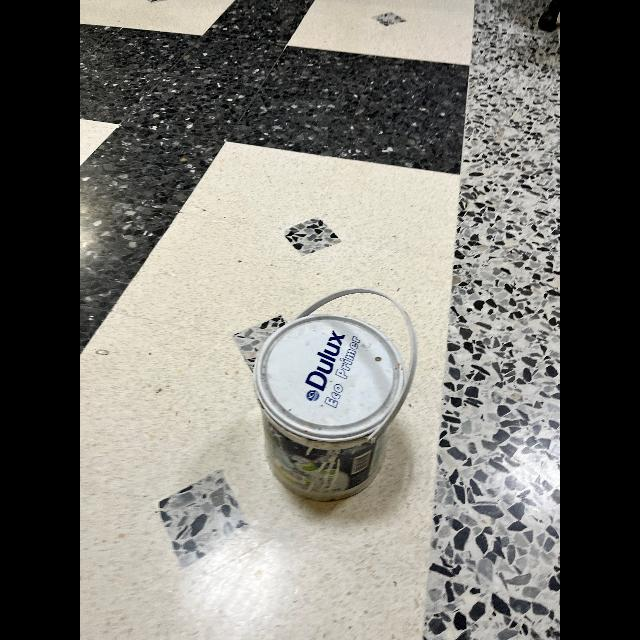paint_bucket: (256, 309, 406, 509)
